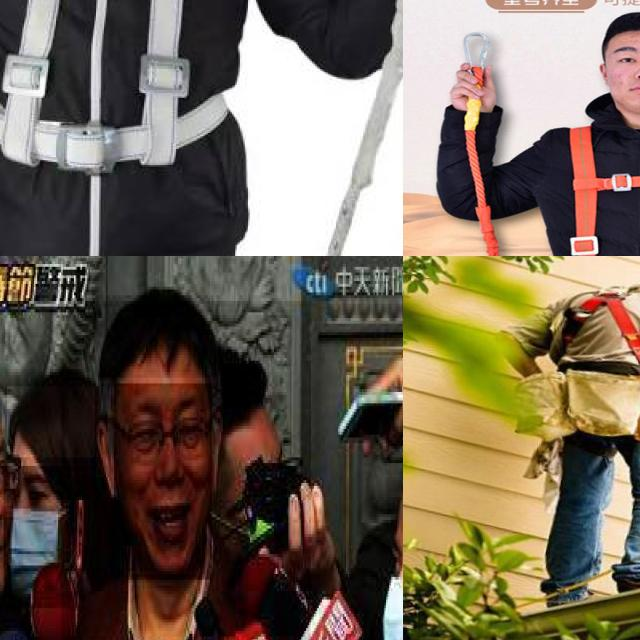Harness: (0, 0, 252, 256), (547, 117, 640, 256), (562, 293, 640, 367)
face_mask: (3, 466, 72, 611)
face_nomask: (114, 383, 213, 582)
glasses: (127, 409, 215, 466), (0, 453, 12, 510)
head_nohelmet: (93, 295, 221, 381), (7, 386, 96, 461), (385, 434, 403, 534)
person: (61, 301, 312, 640)
